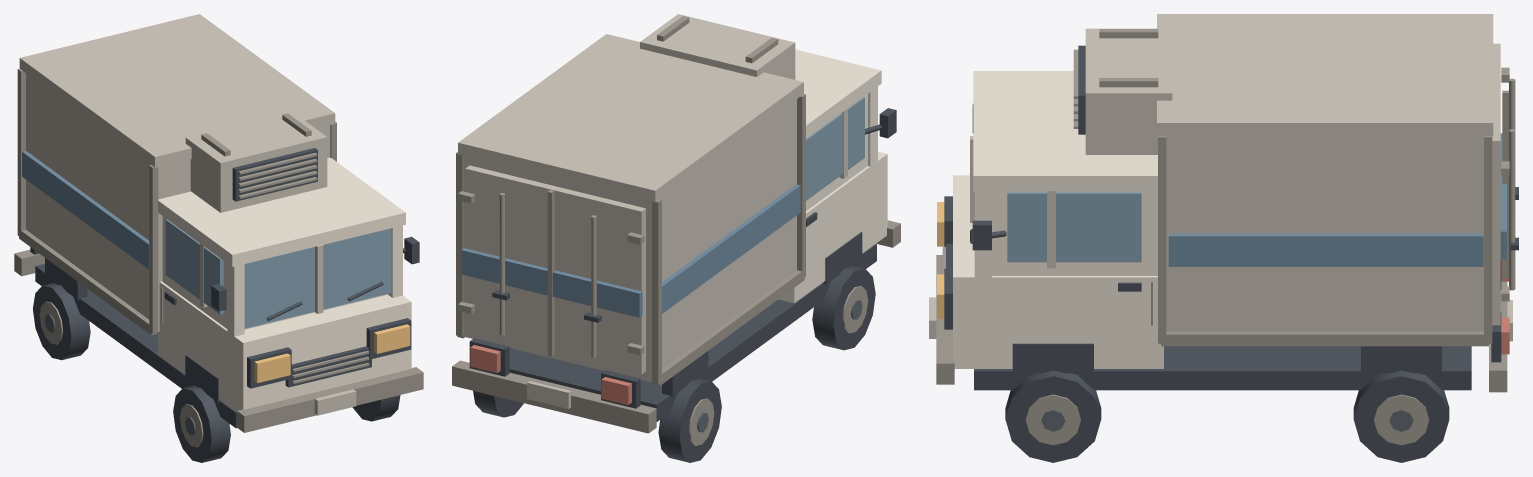
File: komachi-fish-van.glb
The picture shows the model from 3 angles, left to right: view 1: azimuth 30°, elevation 25°; view 2: azimuth 150°, elevation 25°; view 3: azimuth 270°, elevation 25°; orthographic projection. The views are drawn at different scales.
Parts seen in each view (by area): view 1: Refrigerated_Box, Body_Paint, Trim_Glass_And_Chassis, Refrigeration_Unit, Wheel_Left_Rear, Wheel_Left_Front, Headlights, Wheel_Right_Front; view 2: Refrigerated_Box, Trim_Glass_And_Chassis, Body_Paint, Refrigeration_Unit, Wheel_Left_Rear, Wheel_Left_Front, Taillights, Wheel_Right_Rear; view 3: Refrigerated_Box, Body_Paint, Trim_Glass_And_Chassis, Refrigeration_Unit, Wheel_Right_Rear, Wheel_Right_Front, Headlights.
Boxes of the visible parts, x1,y1,x2,y2 form: Refrigerated_Box: (17, 14, 336, 335); Body_Paint: (158, 157, 411, 412); Trim_Glass_And_Chassis: (14, 219, 423, 432); Refrigeration_Unit: (185, 111, 327, 212); Wheel_Left_Rear: (33, 283, 90, 360); Wheel_Left_Front: (173, 385, 230, 462); Headlights: (254, 324, 410, 383); Wheel_Right_Front: (352, 395, 400, 421); Refrigerated_Box: (456, 34, 805, 386); Trim_Glass_And_Chassis: (452, 97, 900, 433); Body_Paint: (778, 49, 887, 303); Refrigeration_Unit: (640, 14, 795, 79); Wheel_Left_Rear: (658, 378, 721, 462); Wheel_Left_Front: (812, 265, 875, 350); Taillights: (470, 345, 631, 404); Wheel_Right_Rear: (473, 391, 523, 417); Refrigerated_Box: (1157, 14, 1518, 346); Body_Paint: (953, 71, 1163, 368); Trim_Glass_And_Chassis: (929, 104, 1512, 392); Refrigeration_Unit: (1073, 28, 1172, 154); Wheel_Right_Rear: (1353, 370, 1449, 462); Wheel_Right_Front: (1005, 370, 1101, 462); Headlights: (937, 202, 944, 318).
Bounding box in the file's own units: 0.312 × 0.42 × 0.6405.
